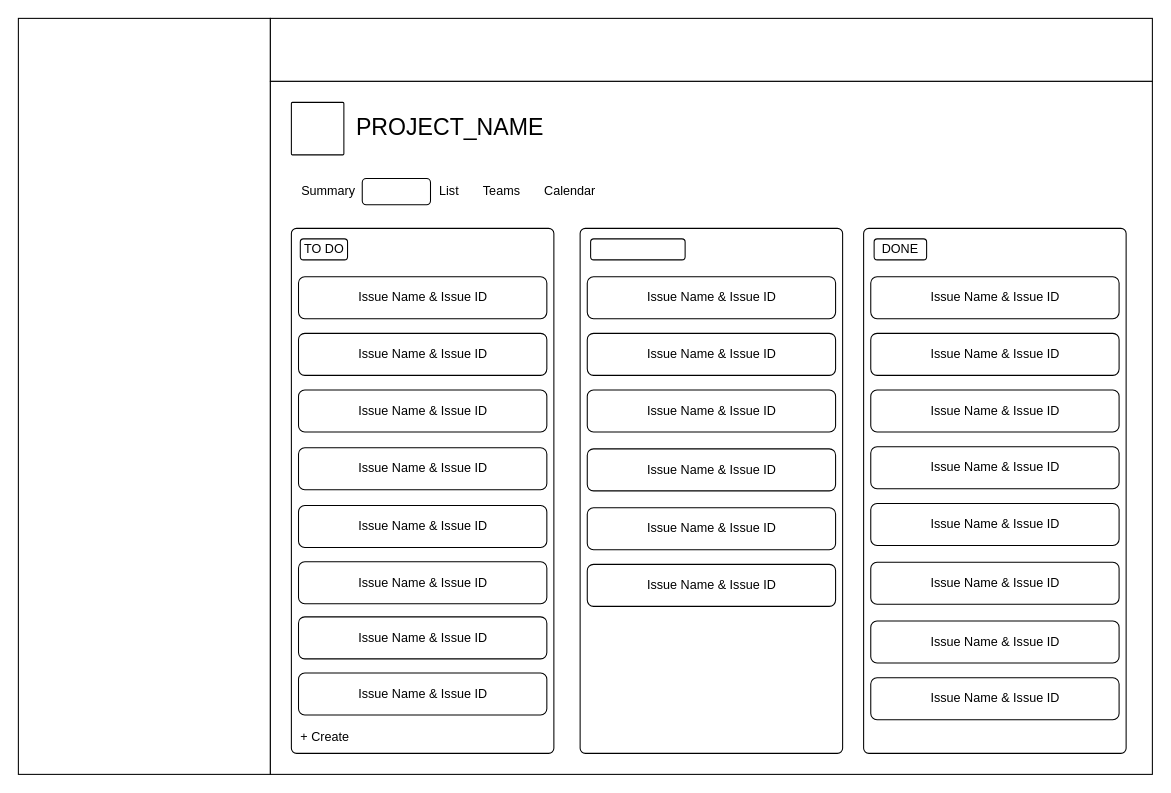
Image size: 1171x793. Some labels were removed from this diagram. Here are the shapes that lost their labels. From the top down, the centre of each, then its label:
At pixel 710 49: "Navigation".
At pixel 395 191: "Board".
At pixel 637 249: "IN PRORGESS".
At pixel 143 395: "Toolbar".
